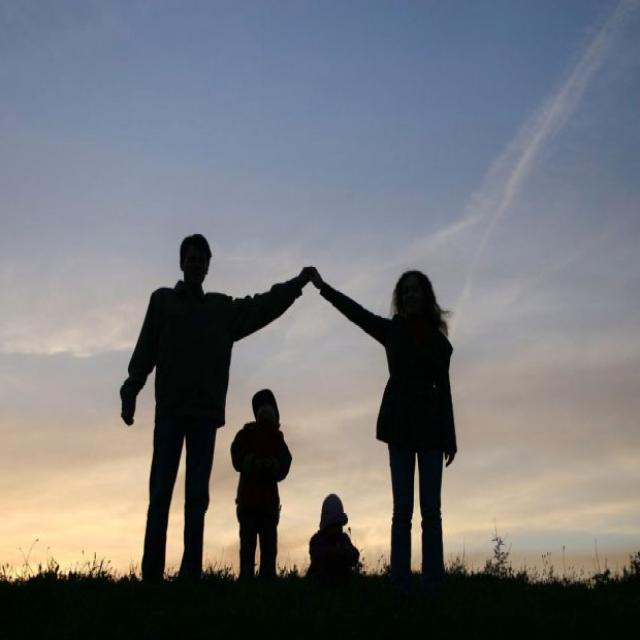adult: (119, 234, 304, 578), (307, 265, 460, 573)
child: (229, 386, 295, 574), (308, 490, 362, 573)
